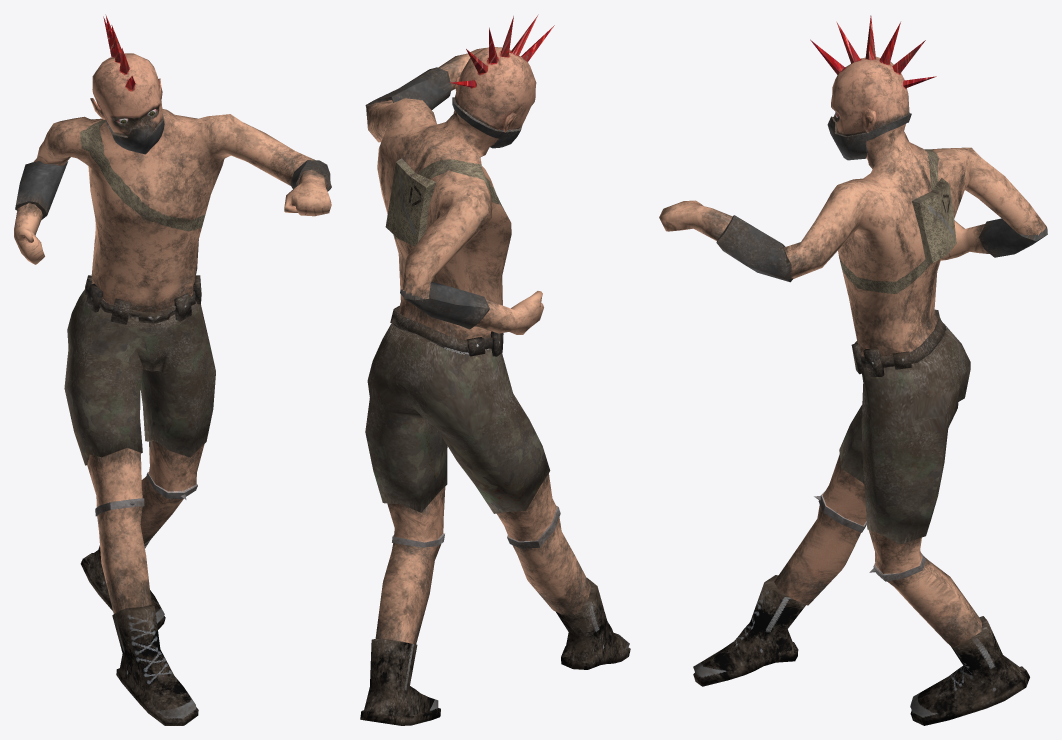
The model's file is Anim_ataque_d3_npc2.0036.obj.
3 renders of one model, left to right at view 1: azimuth 30°, elevation 25°; view 2: azimuth 150°, elevation 25°; view 3: azimuth 270°, elevation 25°, orthographic. The views are drawn at different scales.
Visible parts, largest first — view 1: polySurface1; view 2: polySurface1; view 3: polySurface1.
Part boxes in pixels (x1,y1,x2,y2): polySurface1: (14, 14, 331, 725); polySurface1: (360, 14, 630, 725); polySurface1: (659, 15, 1047, 725).
Size of the model in its own units: 3.77 by 9.84 by 5.15.
Materials: 2 (2 with a texture image).
